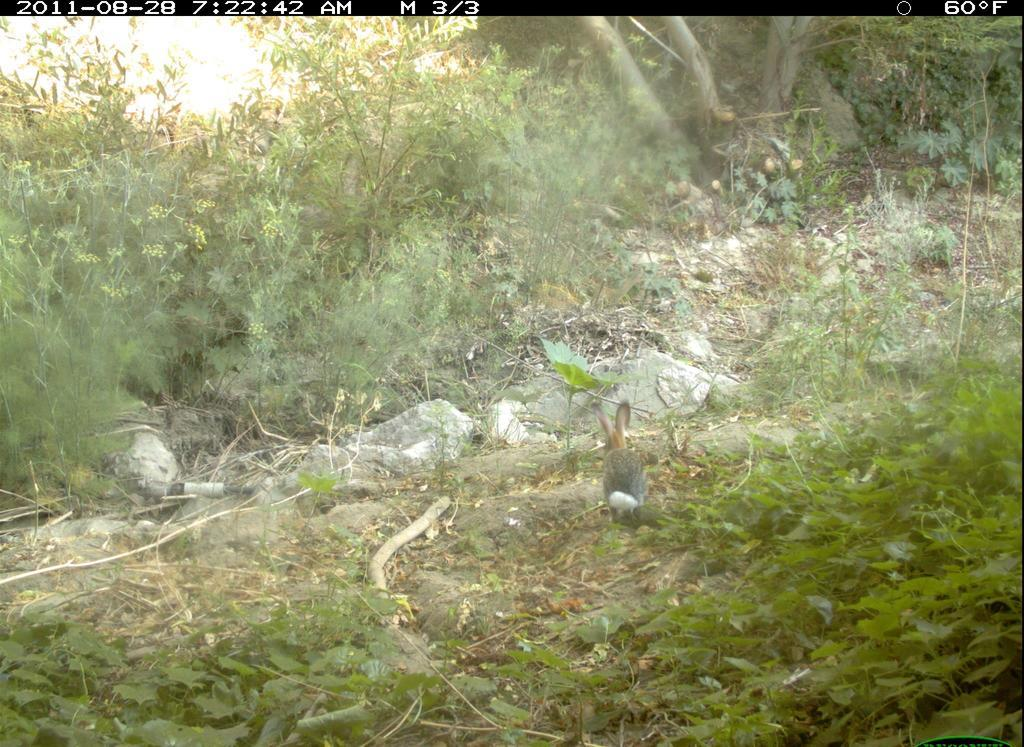rabbit: (587, 390, 658, 536)
